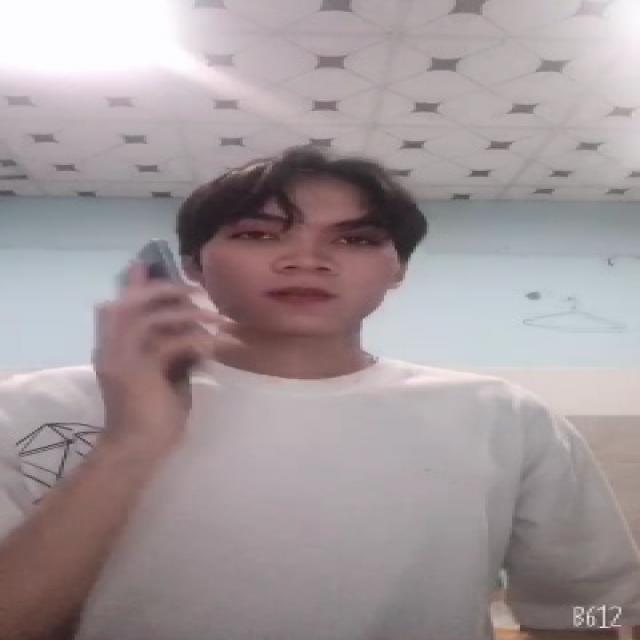Phone: (108, 236, 212, 380)
